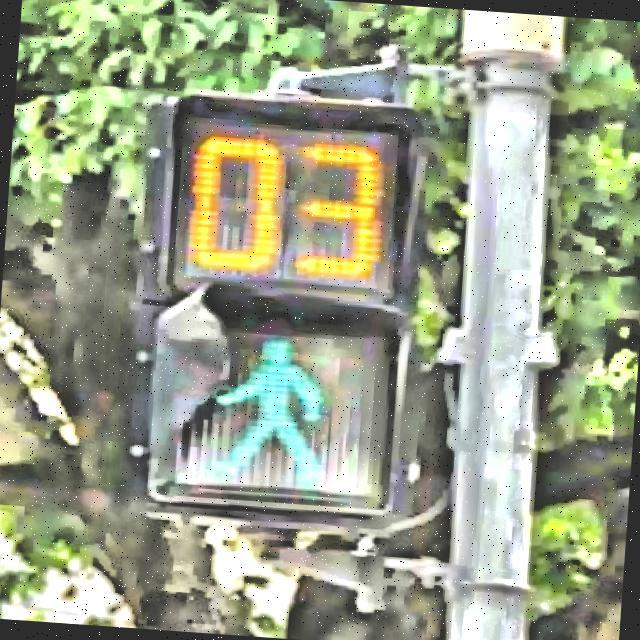green_light: (199, 330, 341, 490)
